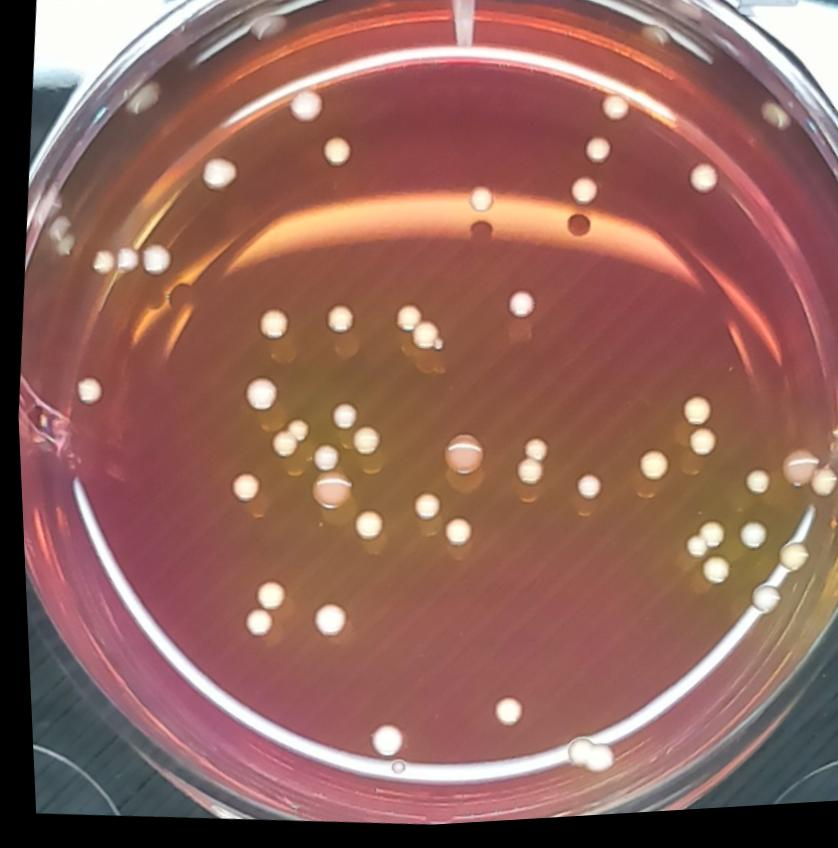staphylo-: (505, 437, 548, 498), (556, 737, 607, 783), (233, 372, 280, 419), (261, 416, 306, 462), (192, 154, 238, 198), (677, 525, 723, 569), (281, 86, 328, 129), (247, 301, 289, 348), (739, 588, 782, 633), (404, 316, 445, 360), (432, 511, 471, 557), (301, 599, 343, 641), (129, 239, 172, 280), (65, 368, 106, 409), (313, 134, 355, 174), (680, 164, 720, 205), (221, 469, 259, 512), (629, 451, 669, 490), (403, 489, 441, 530), (340, 424, 378, 463), (572, 138, 611, 176), (679, 429, 717, 467), (729, 522, 767, 560), (359, 722, 397, 760), (483, 698, 519, 738), (343, 512, 383, 548), (316, 302, 353, 340), (674, 398, 712, 435), (247, 579, 283, 616), (565, 472, 600, 510), (691, 561, 727, 597), (500, 292, 537, 327), (231, 604, 267, 639), (769, 549, 804, 583), (303, 442, 336, 478), (107, 240, 140, 276), (321, 403, 355, 437), (459, 185, 493, 219), (386, 307, 420, 339), (564, 185, 597, 216), (598, 97, 629, 130), (78, 250, 112, 279), (737, 475, 766, 506)
